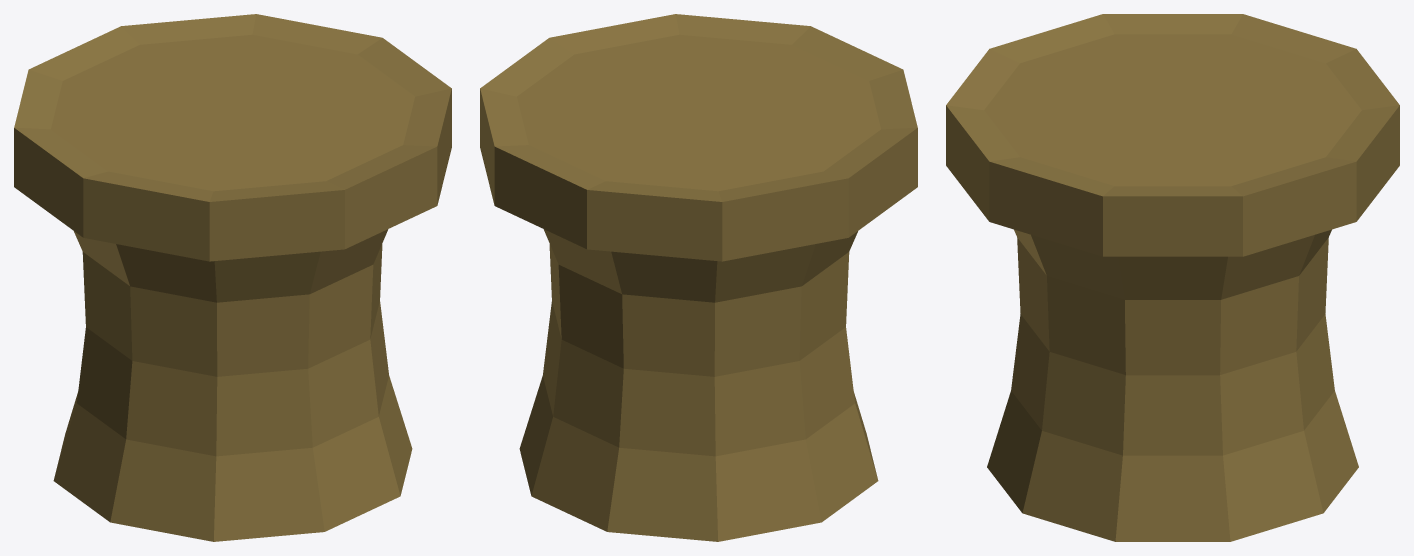
Rendered from Pedestal.fbx.
3 views of the same model, side by side, from view 1: azimuth 30°, elevation 25°; view 2: azimuth 150°, elevation 25°; view 3: azimuth 270°, elevation 25° (orthographic).
Parts seen in each view (by area): view 1: Pedestal; view 2: Pedestal; view 3: Pedestal.
Part boxes in pixels (left/top/right/bottom): Pedestal: left=14, top=14, right=451, bottom=541; Pedestal: left=480, top=14, right=917, bottom=541; Pedestal: left=946, top=14, right=1399, bottom=541.
Size of the model in its own units: 255 by 236 by 268.
Materials: 1 (1 with a texture image).
